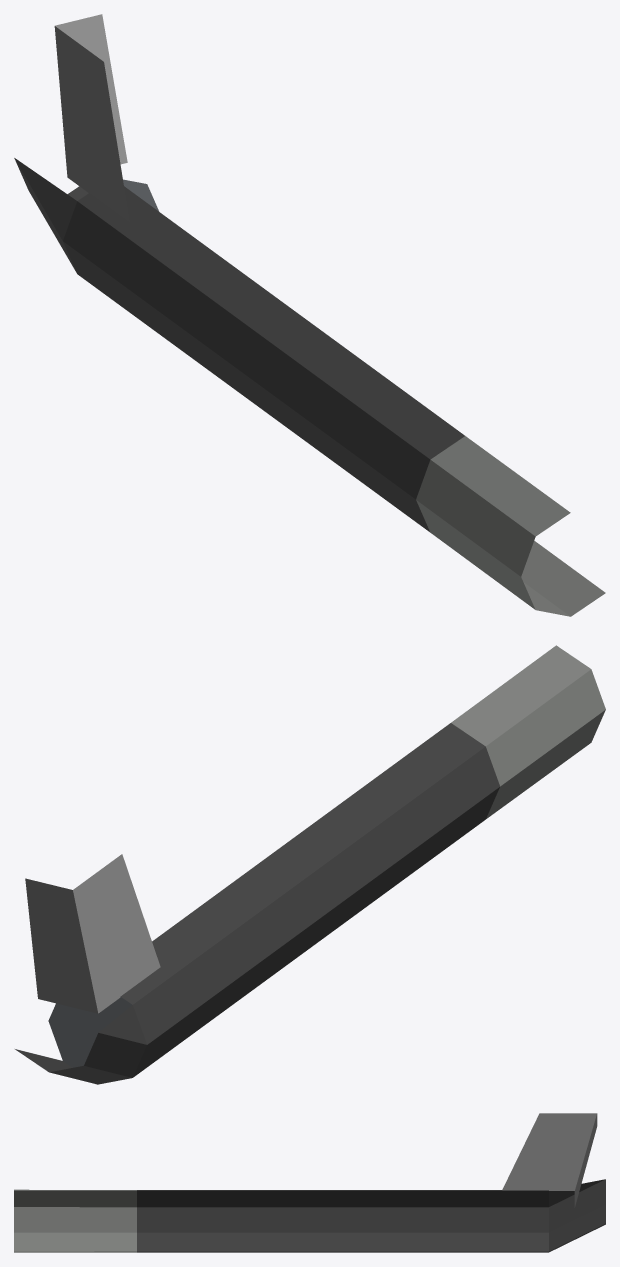
File: FLAME.obj
3 renders of one model, top to bottom at view 1: azimuth 30°, elevation 25°; view 2: azimuth 150°, elevation 25°; view 3: azimuth 270°, elevation 25°, orthographic. The views are drawn at different scales.
Parts seen in each view (by area): view 1: SHOTGUN_pistol_q2_SS_v1_0000_submodel00_mesh0000.003; view 2: SHOTGUN_pistol_q2_SS_v1_0000_submodel00_mesh0000.003; view 3: SHOTGUN_pistol_q2_SS_v1_0000_submodel00_mesh0000.003.
Part boxes in pixels (x1,y1,x2,y2): SHOTGUN_pistol_q2_SS_v1_0000_submodel00_mesh0000.003: (14,14,605,616); SHOTGUN_pistol_q2_SS_v1_0000_submodel00_mesh0000.003: (15,645,605,1084); SHOTGUN_pistol_q2_SS_v1_0000_submodel00_mesh0000.003: (14,1113,605,1252).
Size of the model in its own units: 0.662 by 1.46 by 5.87.
